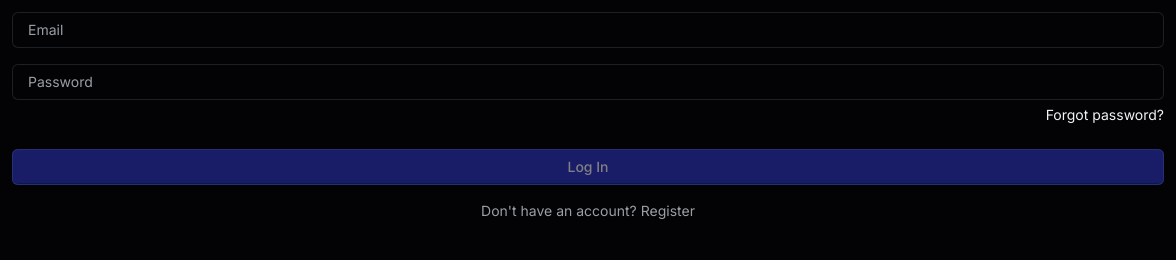
Test case: LoginForm › shows email validation error for invalid email after blur
Type "bad-email" into the field labelled "Email".
click(588, 30); type("bad-email")  # box [28,12,1148,48]
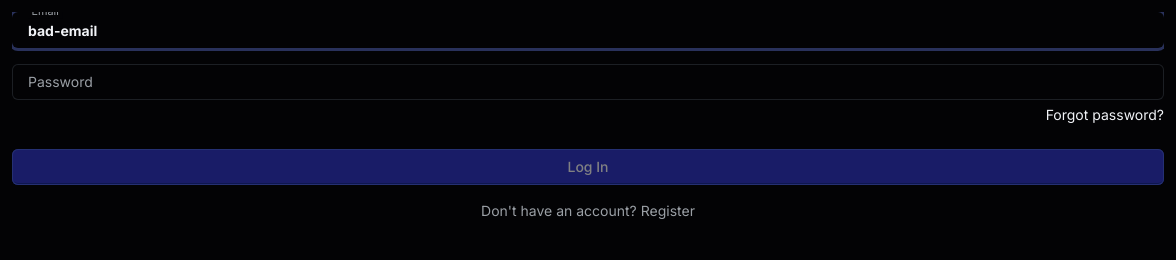
Press Tab
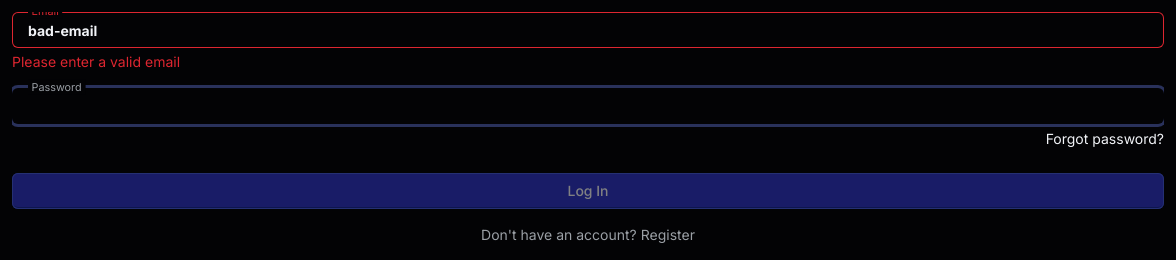
Check: the text "Please enter a valid email" is shown, box [12,52,180,72]
